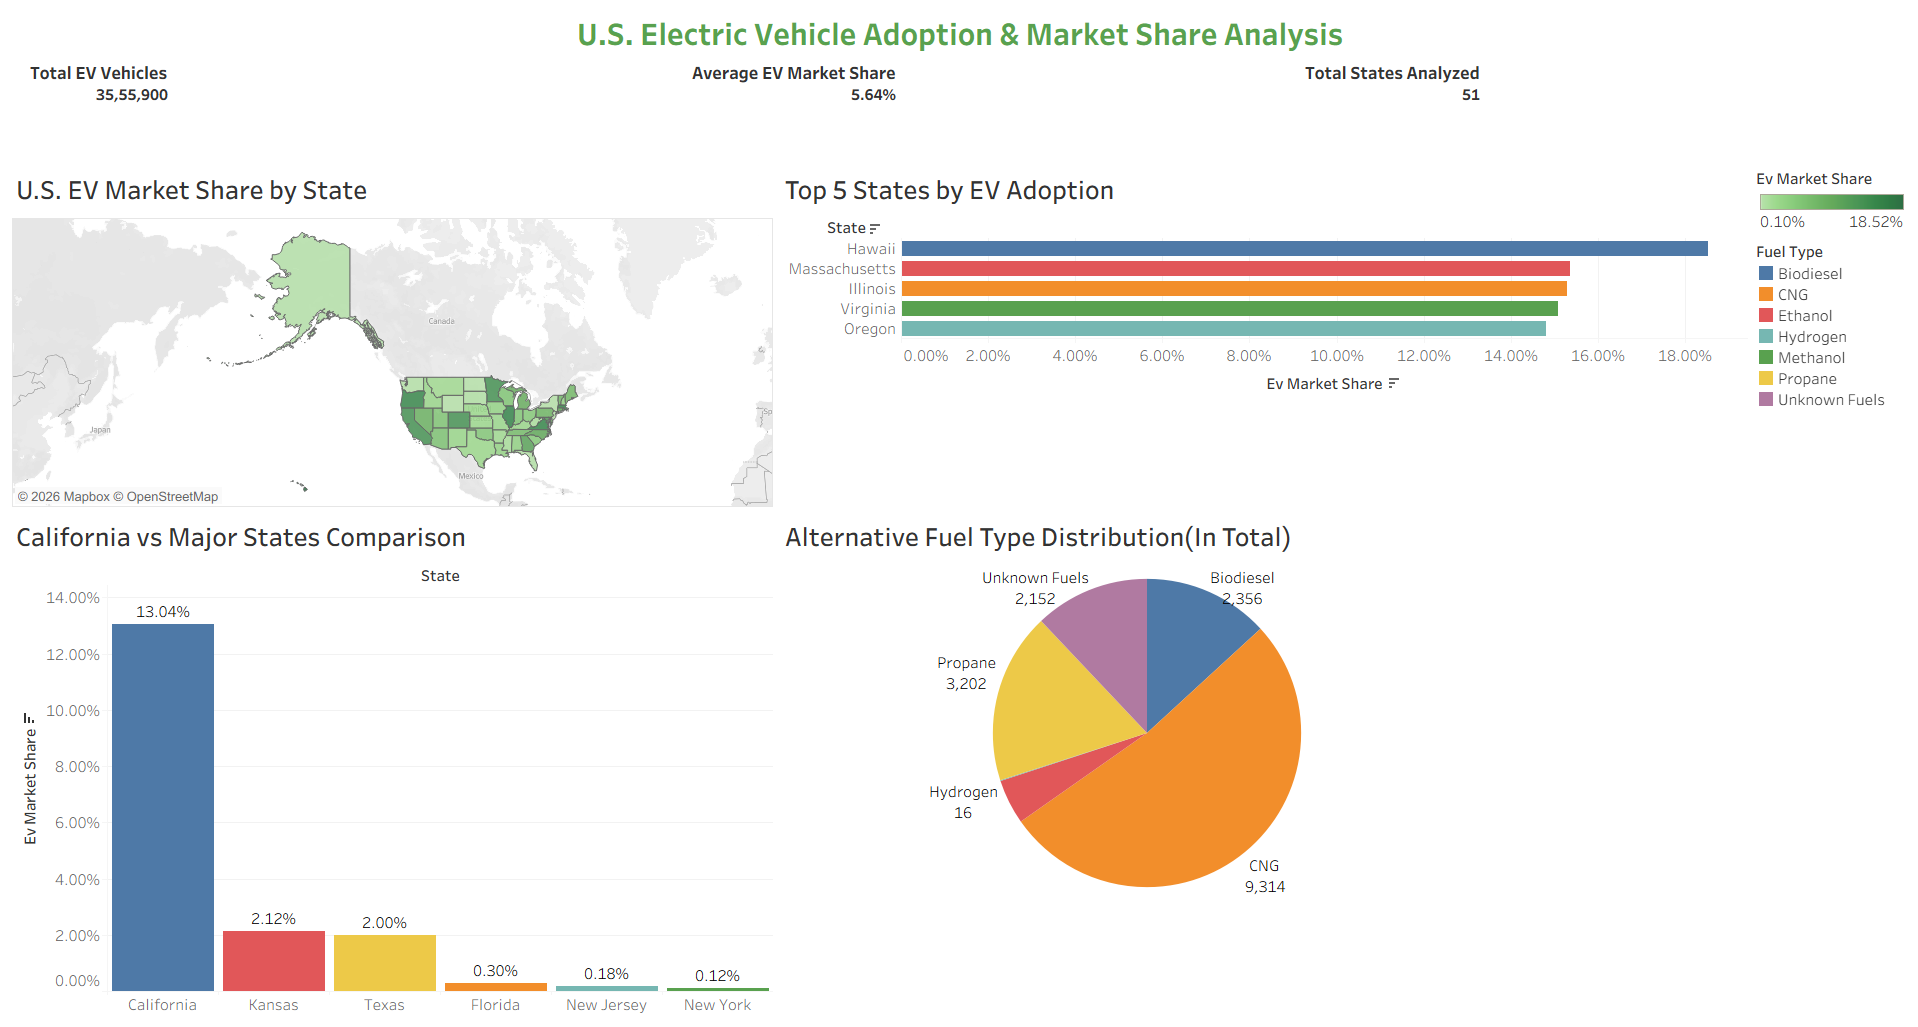

What the dashboard file says about the page in this screenshot:
{"tool":"tableau","page":{"name":"Dashboard 1","canvas":[1000,1000],"units":"permille","ordinal":0},"visuals":[{"type":"title","box":[4.8,10,990.5,61.5]},{"type":"worksheet","title":"Total EV Vehicles","mark":"Text","box":[4.8,71.5,347.8,100.4]},{"type":"worksheet","title":"Average EV Market Share","mark":"Text","box":[352.6,71.5,314,100.4]},{"type":"worksheet","title":"Total States","mark":"Automatic","box":[666.5,71.5,328.7,100.4]},{"type":"worksheet","title":"U.S. EV Market Share by State","mark":"Automatic","box":[4.8,171.9,394.5,326.1]},{"type":"worksheet","title":"Top 5 States by EV Adoption","mark":"Bar","rows":["state"],"cols":["ev_market_share"],"box":[399.3,171.9,500.6,326.1]},{"type":"legend","title":"U.S. EV Market Share by State","param":"[federated.1hs0qy40lrxijv0zyyj7v1nkejmv].[sum:ev_market_share:qk]","box":[899.9,171.9,95.4,91.6]},{"type":"legend","title":"Alternative Fuel Type Distribution(In Total)","param":"[federated.1c3zor80dkoe5m19sw2ad1yznn33].[none:fuel_type:nk]","box":[899.9,263.5,95.4,222.1]},{"type":"worksheet","title":"California vs Major States Comparison","mark":"Automatic","rows":["ev_market_share"],"cols":["state"],"box":[4.8,498,394.6,492]},{"type":"worksheet","title":"Alternative Fuel Type Distribution(In Total)","mark":"Pie","box":[399.3,498,500.6,492]}]}

Visuals, with their boxes on the dashboard's canvas, which has no fixed pixel size, in thousandths of its width and height (x1, y1, x2, y2). These are canvas units, not pixel positions in the 1918x1027 screenshot, which may show the page scaled, cropped or inside an application window:
title: bbox=[5, 10, 995, 72]
"Total EV Vehicles" worksheet (Text marks): bbox=[5, 72, 353, 172]
"Average EV Market Share" worksheet (Text marks): bbox=[353, 72, 667, 172]
"Total States" worksheet: bbox=[666, 72, 995, 172]
"U.S. EV Market Share by State" worksheet: bbox=[5, 172, 399, 498]
"Top 5 States by EV Adoption" worksheet (Bar marks): bbox=[399, 172, 900, 498]
"U.S. EV Market Share by State" legend: bbox=[900, 172, 995, 264]
"Alternative Fuel Type Distribution(In Total)" legend: bbox=[900, 264, 995, 486]
"California vs Major States Comparison" worksheet: bbox=[5, 498, 399, 990]
"Alternative Fuel Type Distribution(In Total)" worksheet (Pie marks): bbox=[399, 498, 900, 990]
